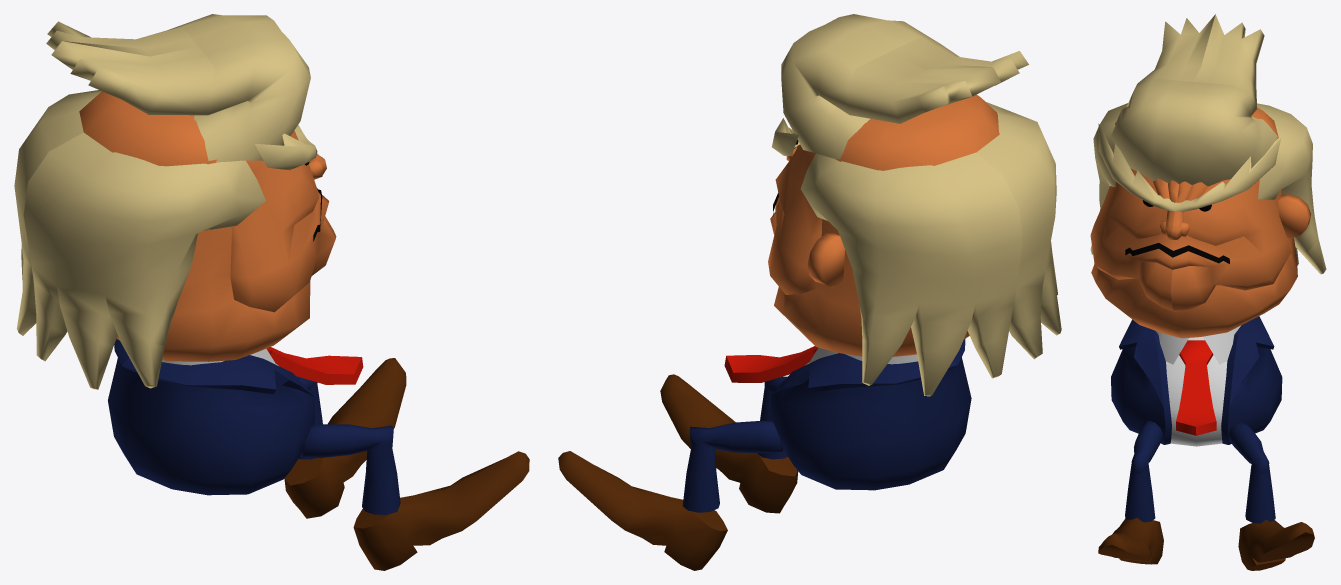
Rendered from Character01_Whole.fbx.
The picture shows the model from 3 angles, left to right: view 1: azimuth 30°, elevation 25°; view 2: azimuth 150°, elevation 25°; view 3: azimuth 270°, elevation 25°; orthographic projection. The views are drawn at different scales.
Visible parts, largest first — view 1: Cube.007; view 2: Cube.007; view 3: Cube.007.
Boxes of the visible parts, bbox=[...] form: Cube.007: bbox=[14, 14, 529, 570]; Cube.007: bbox=[558, 14, 1061, 570]; Cube.007: bbox=[1090, 14, 1326, 570].
Bounding box in the file's own units: 3.81 × 4.68 × 2.22.
